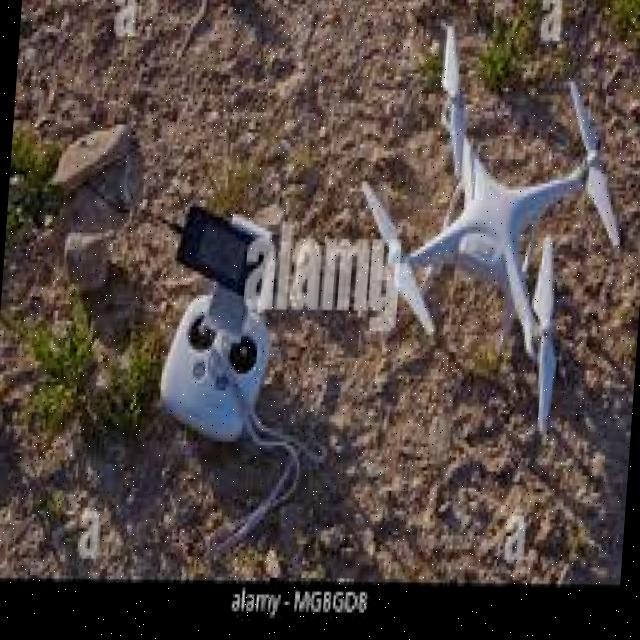drone: (341, 29, 640, 446)
